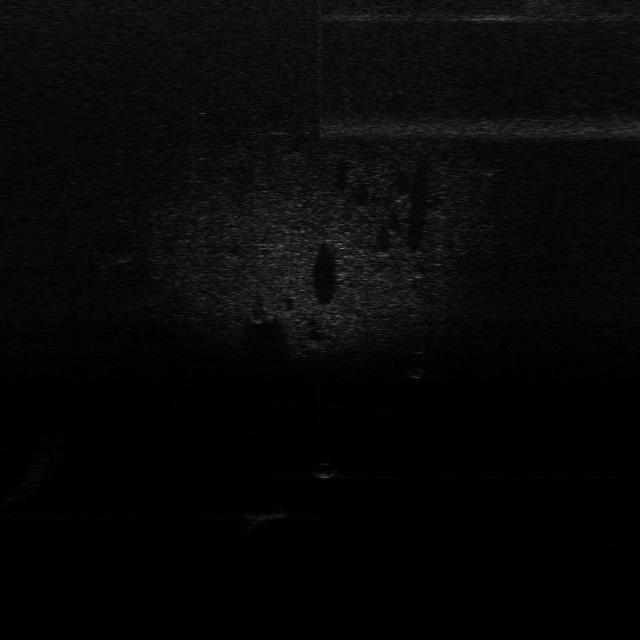ball: (310, 460, 340, 480)
square cage: (243, 506, 296, 524)
tyre: (406, 348, 436, 379)
